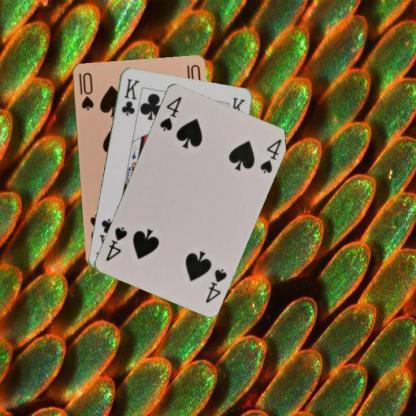10s: (76, 70, 94, 112)
4s: (156, 93, 182, 132), (202, 265, 228, 304)
Kc: (118, 76, 141, 116)
